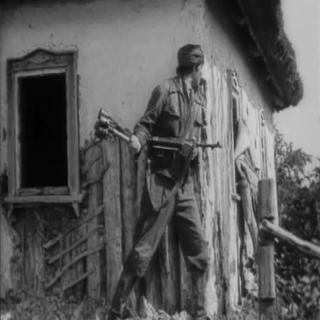gun: (142, 127, 220, 179)
